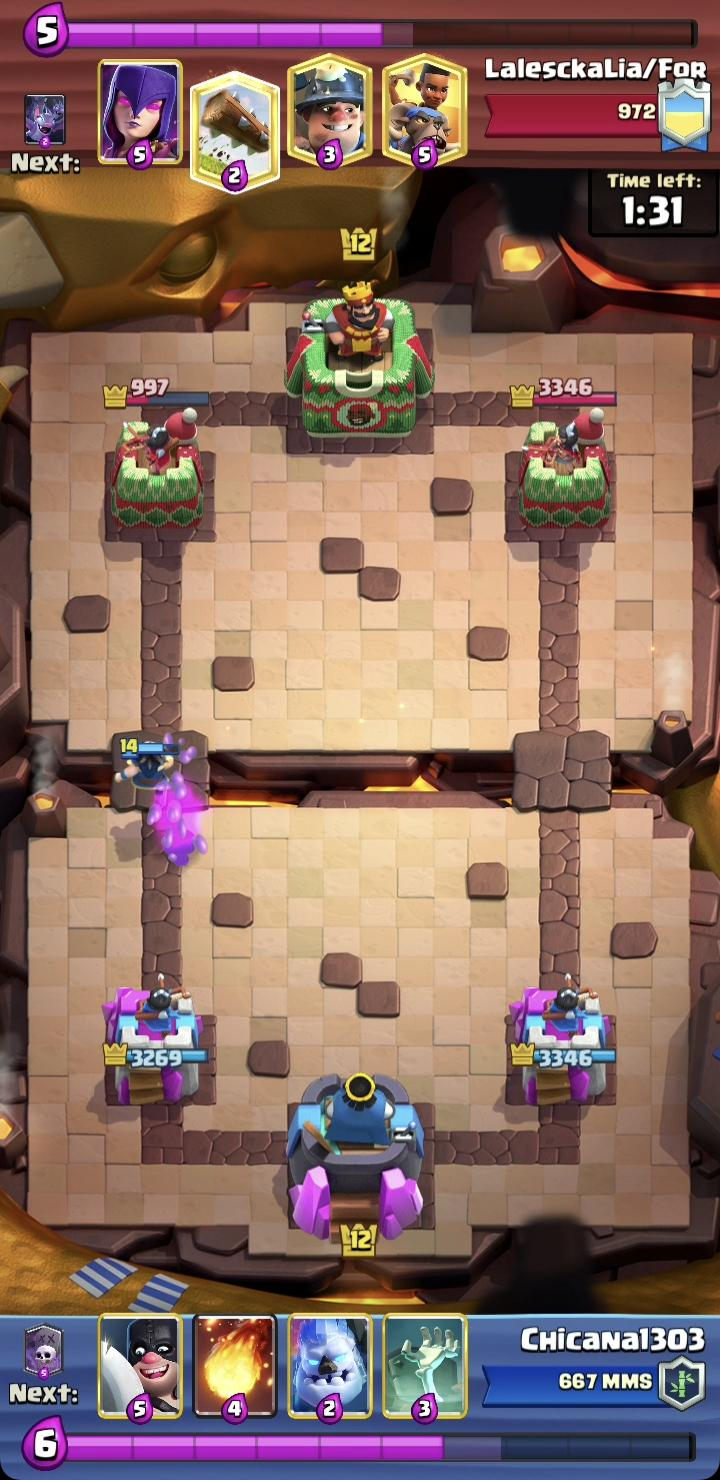ally_electro_wizard: (114, 737, 181, 793)
